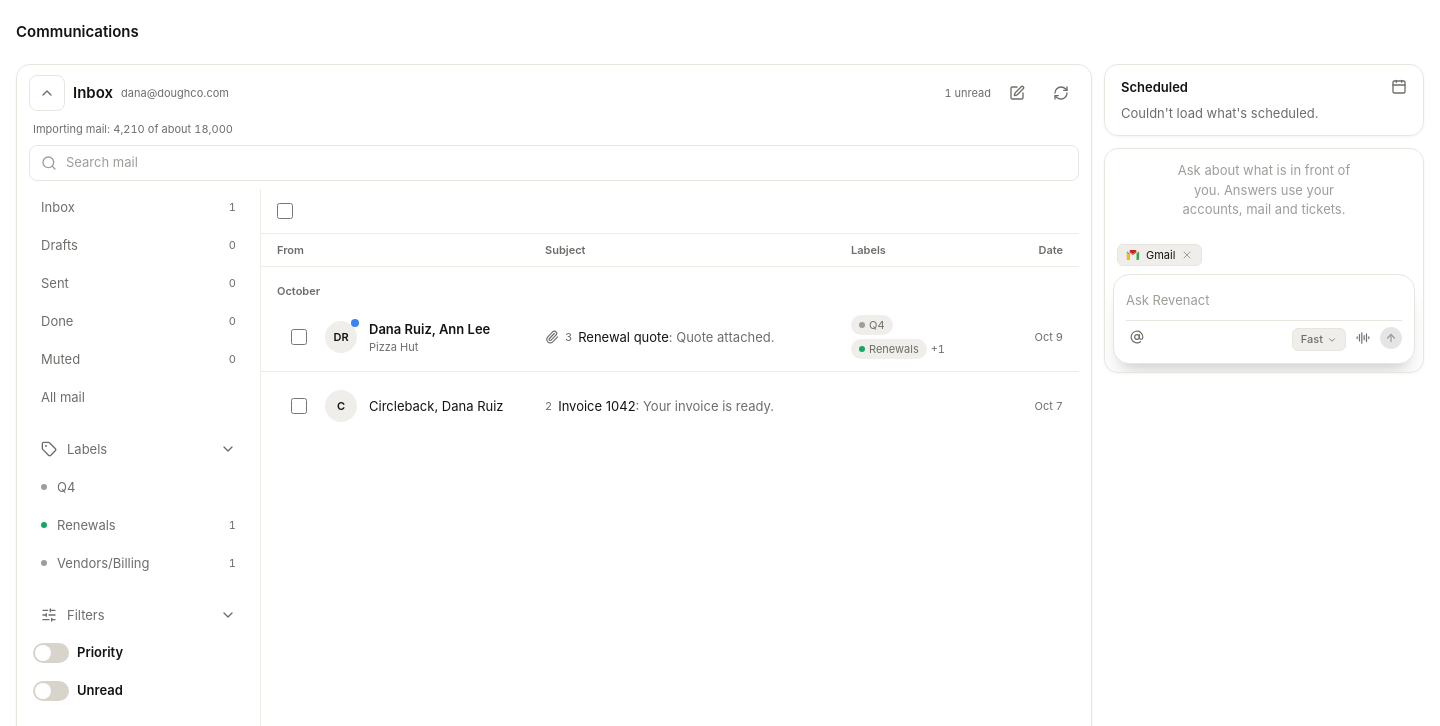
Test: The Drafts folder (two-way Gmail D3) › opens a draft row in the composer without marking anything, and names the agent on an agent draft
Step 1. Click the button "Drafts 0" → (138, 245), box x1=29 y1=227 x2=248 y2=263
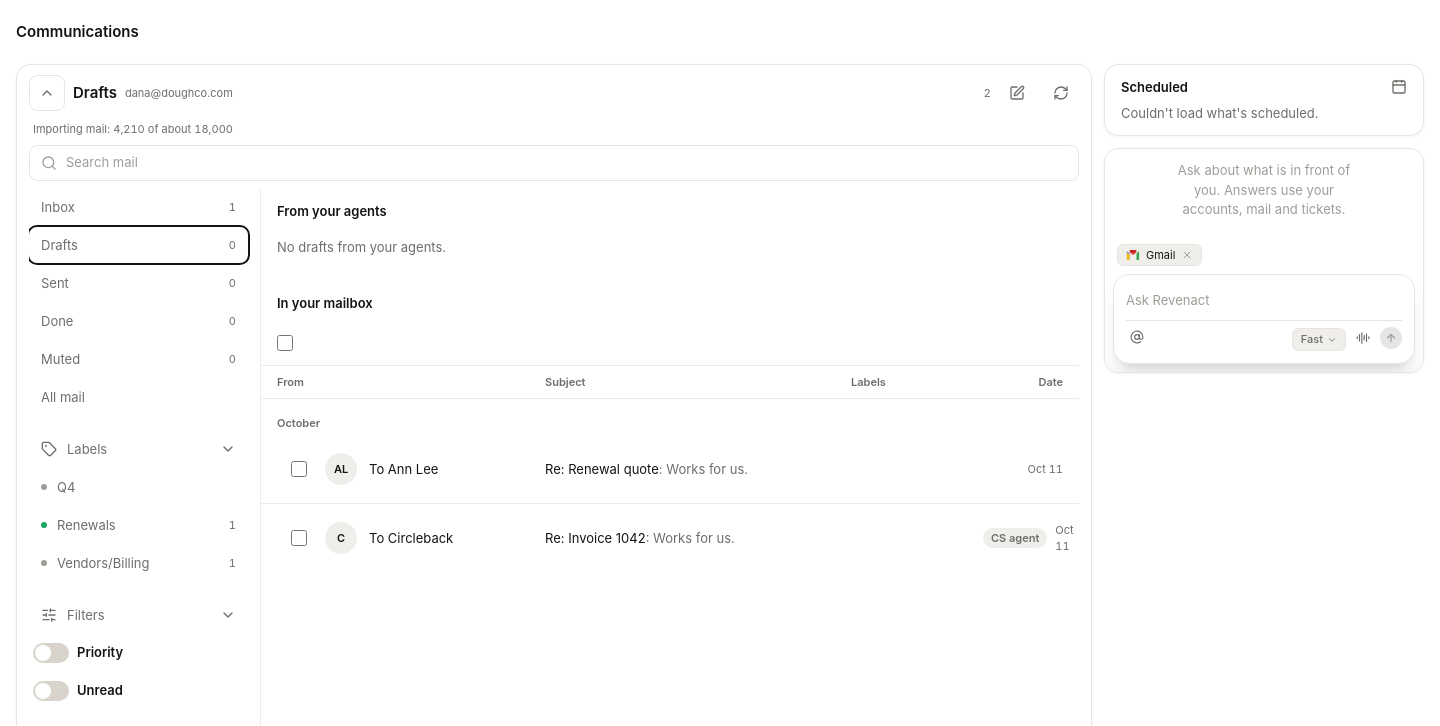
Result: the button "To Ann Lee" is shown
Result: the list item "To Circleback" shows "CS agent" at x1=991 y1=531 x2=1039 y2=545
Step 2. Click the button "To Ann Lee" → (451, 469), box x1=369 y1=459 x2=533 y2=479
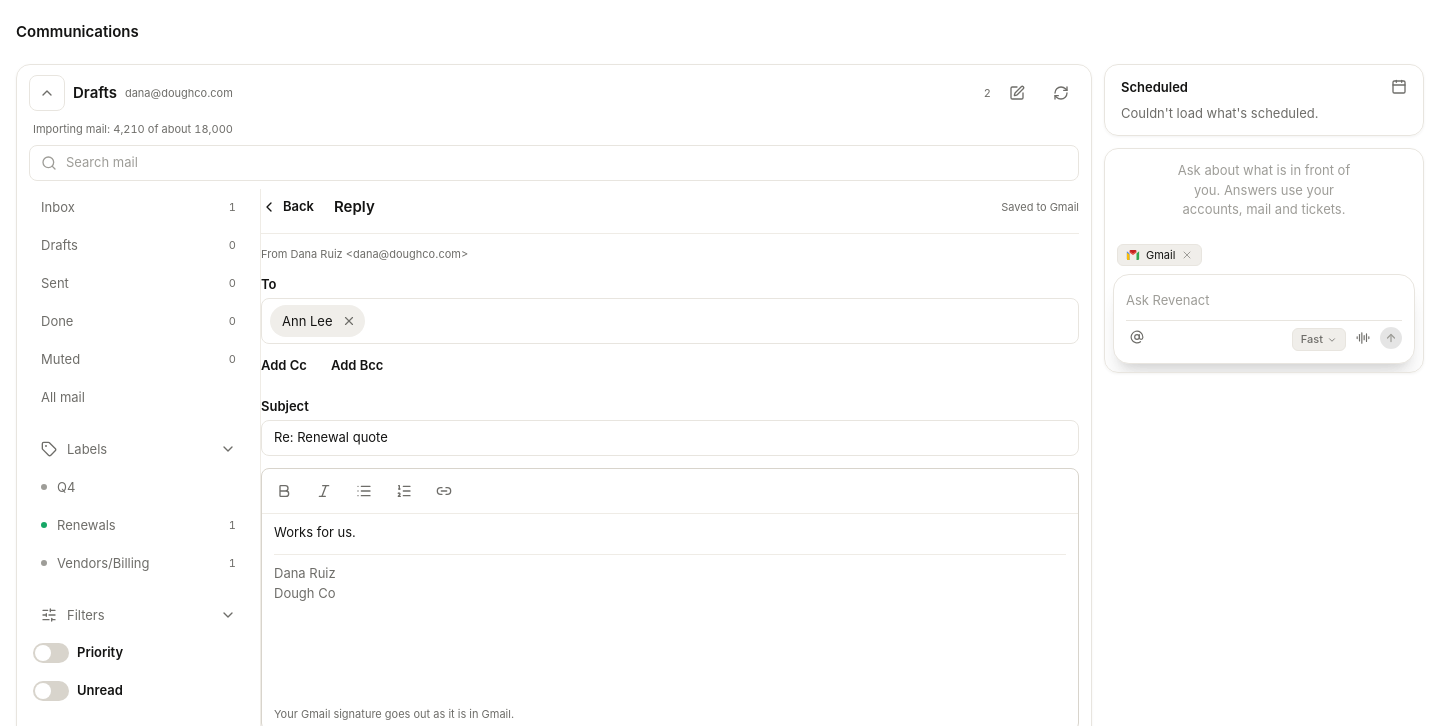
Result: the field labelled "Subject" holds "Re: Renewal quote" at x1=261 y1=420 x2=1079 y2=456
